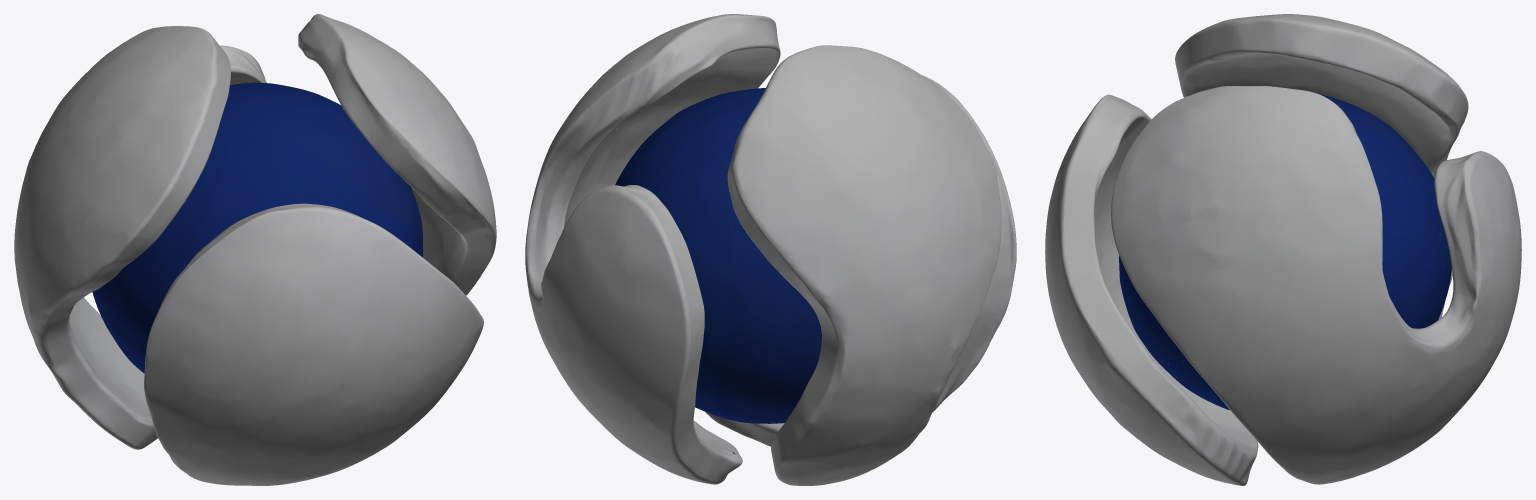
The model's file is meshy-core-source.glb.
3 renders of one model, left to right at view 1: azimuth 30°, elevation 25°; view 2: azimuth 150°, elevation 25°; view 3: azimuth 270°, elevation 25°, orthographic.
Size of the model in its own units: 1.9 by 1.86 by 1.9.
Materials: 1 (1 with a texture image).
